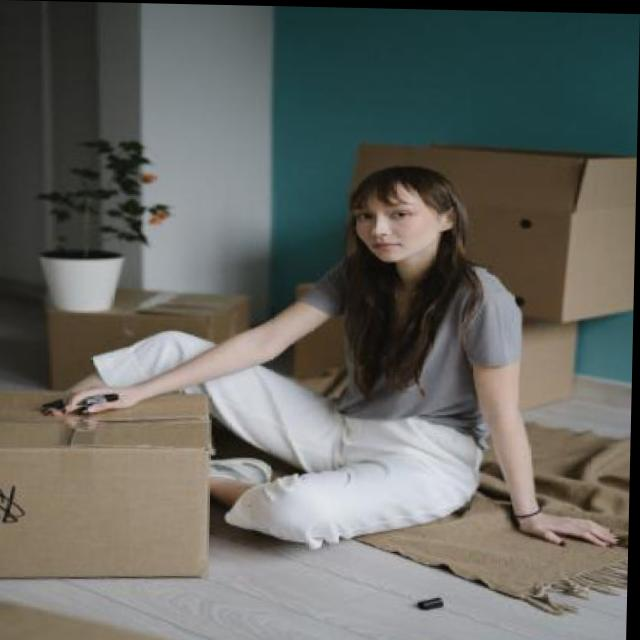box: (356, 121, 637, 322), (0, 379, 233, 597), (262, 299, 608, 395), (31, 276, 269, 395)
